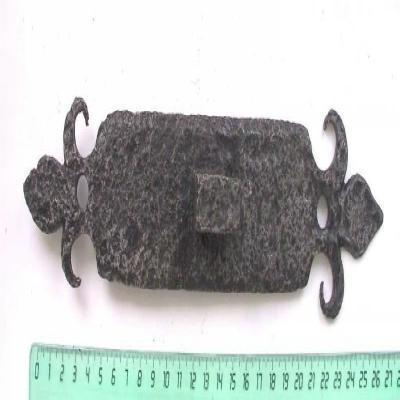other: (24, 99, 384, 322)
